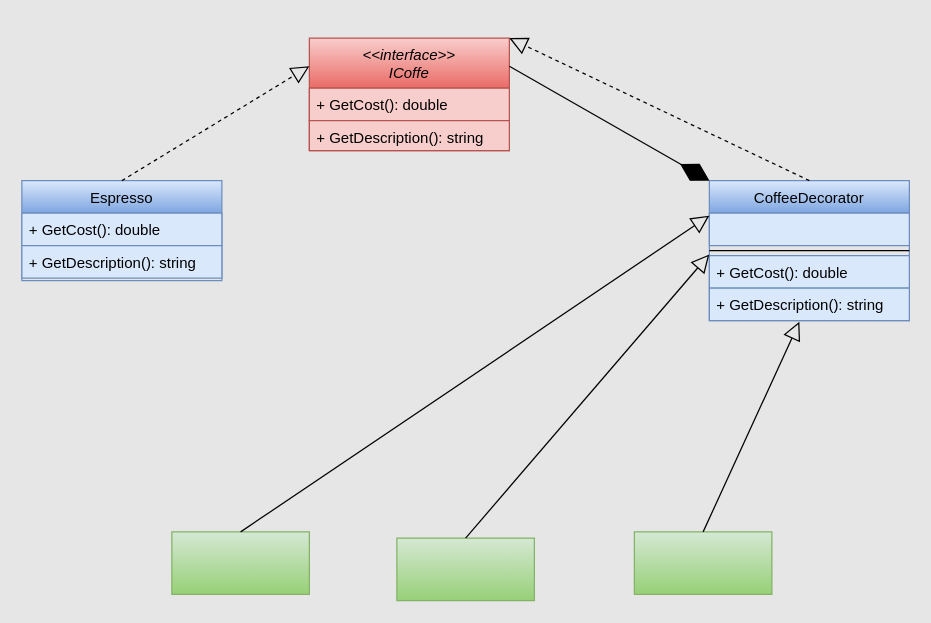
Some shapes in this 931 by 623 pixel diagram are drawn without their labels. Each missing label, with the centre of its shape:
"- coffee : ICoffee" belongs at point (808, 229).
"ChocolateDecorator" belongs at point (702, 562).
"MilkDecorator" belongs at point (240, 562).
"SugarDecorator" belongs at point (465, 569).
